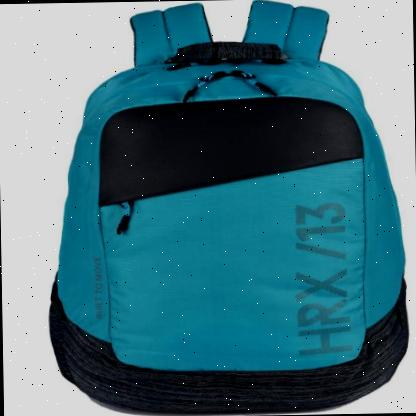bag: (37, 0, 413, 416)
